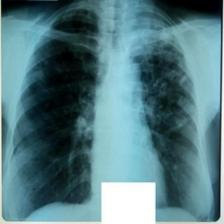tuberculosis: (4, 1, 211, 224)
